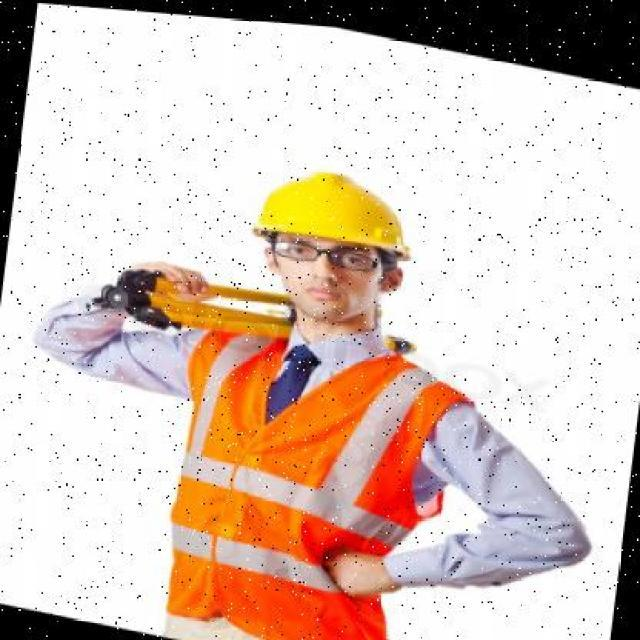helmet: (220, 148, 418, 278)
vest: (129, 280, 449, 638)
